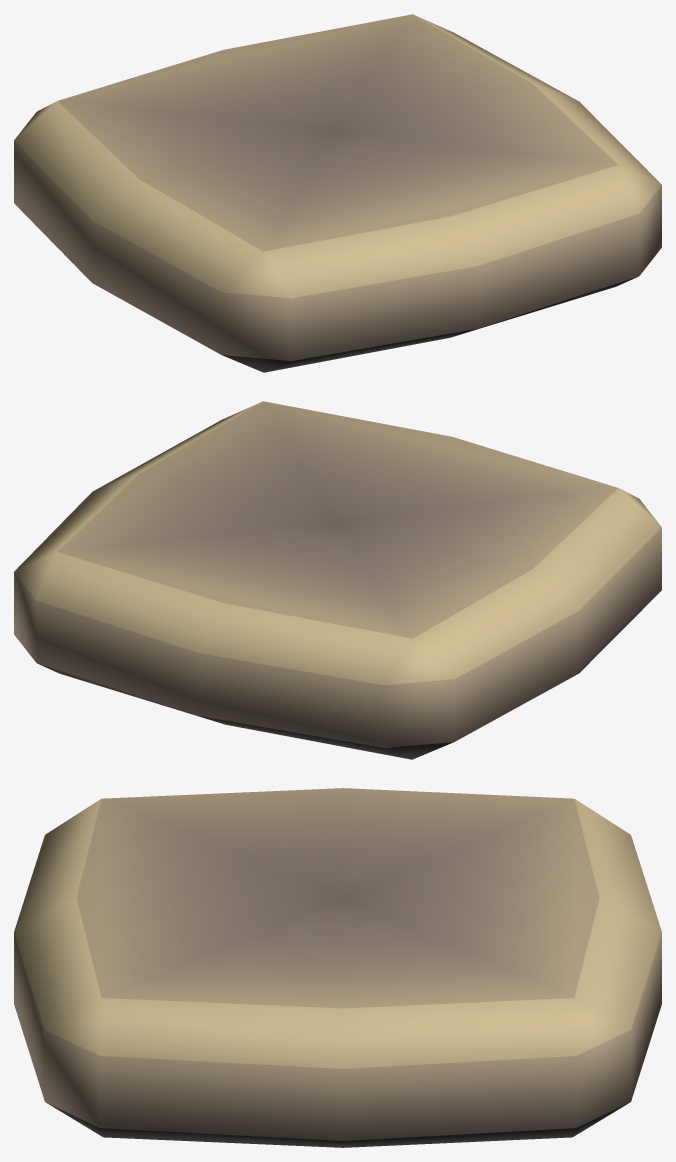
File: wax_spill_3_LOD_setup.fbx
The picture shows the model from 3 angles, top to bottom: view 1: azimuth 30°, elevation 25°; view 2: azimuth 150°, elevation 25°; view 3: azimuth 270°, elevation 25°; orthographic projection. The views are drawn at different scales.
Visible parts, largest first — view 1: wax_spill_3_LOD0; view 2: wax_spill_3_LOD0; view 3: wax_spill_3_LOD0.
Part boxes in pixels (box(x1,y1,x2,y2)): wax_spill_3_LOD0: box(14, 14, 661, 372); wax_spill_3_LOD0: box(14, 401, 661, 759); wax_spill_3_LOD0: box(14, 788, 661, 1147).
Size of what is drawn, in the model's own units: 34.34 by 8.22 by 34.43.
